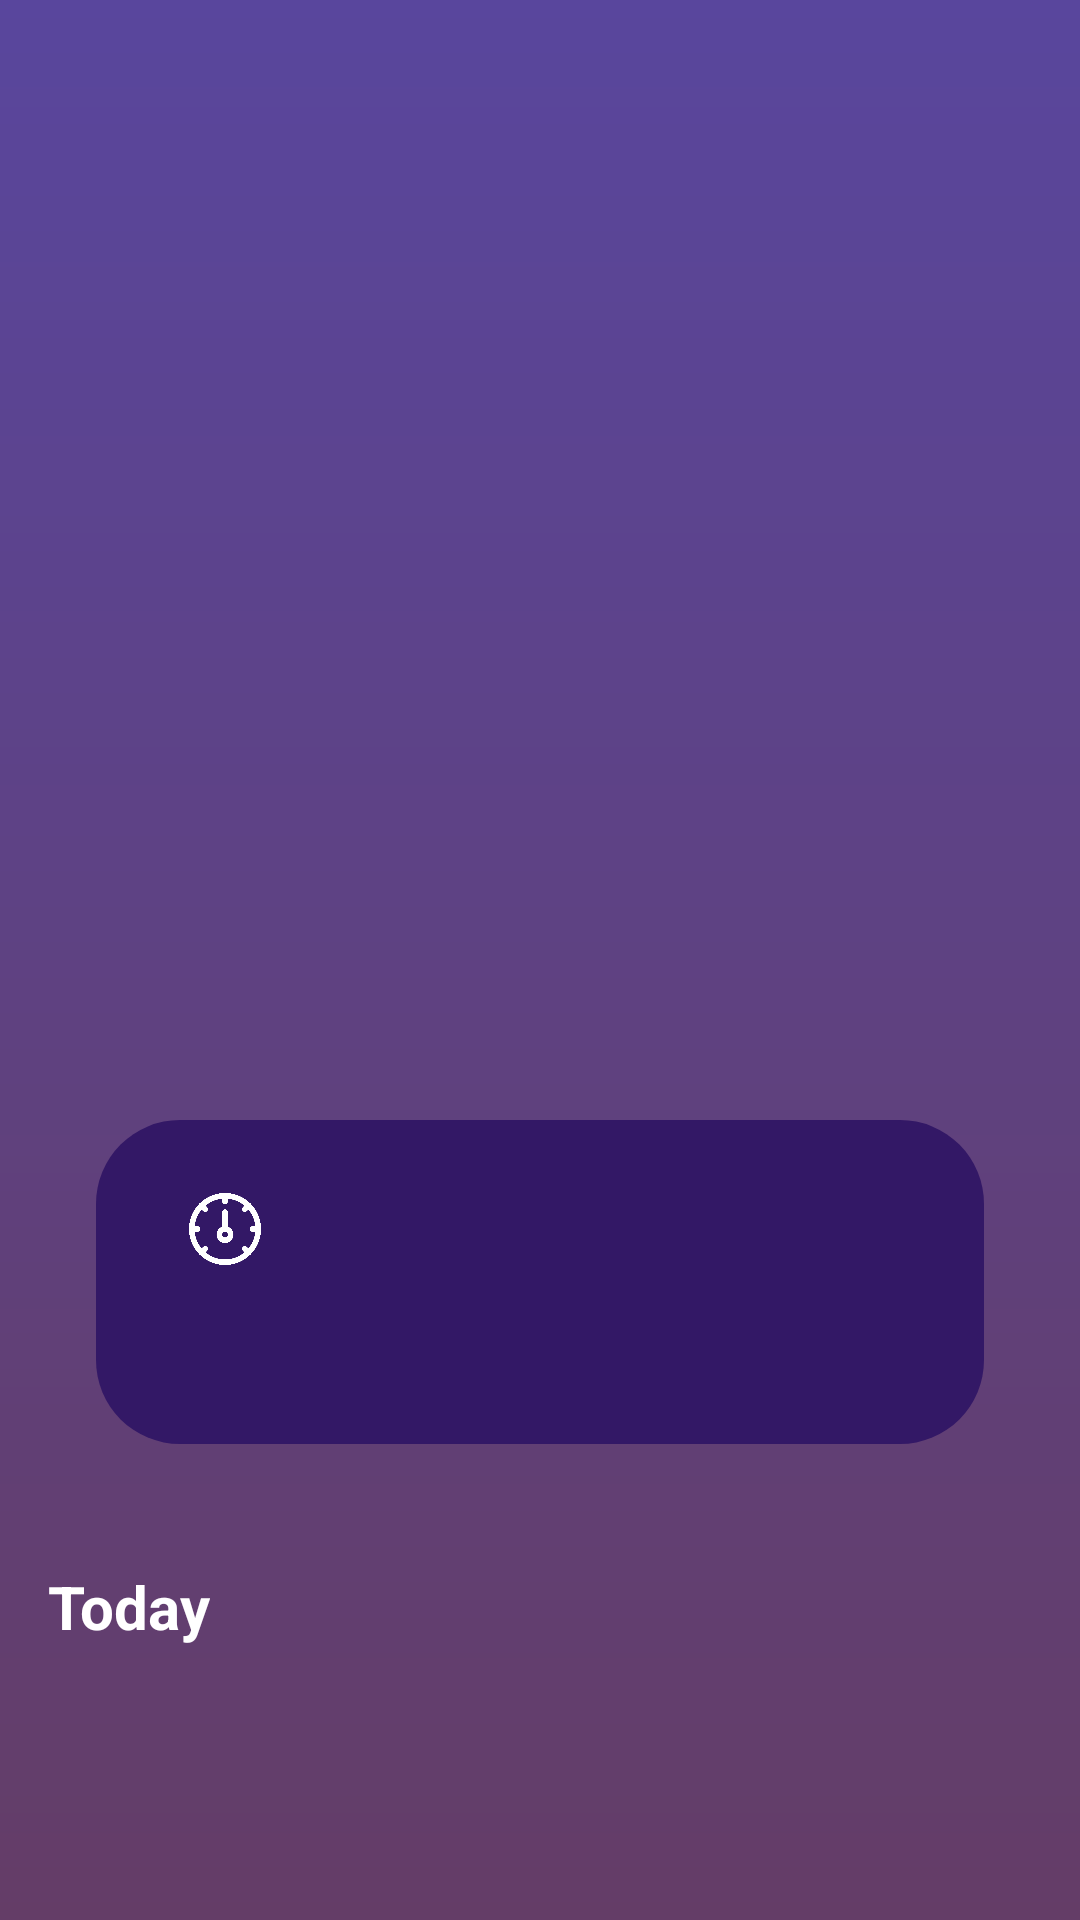

Screen size 1080×1920. Icon name, then its box in pixels as BBox(x1, y1, x2, y2):
Pressure: BBox(189, 1193, 261, 1265)
